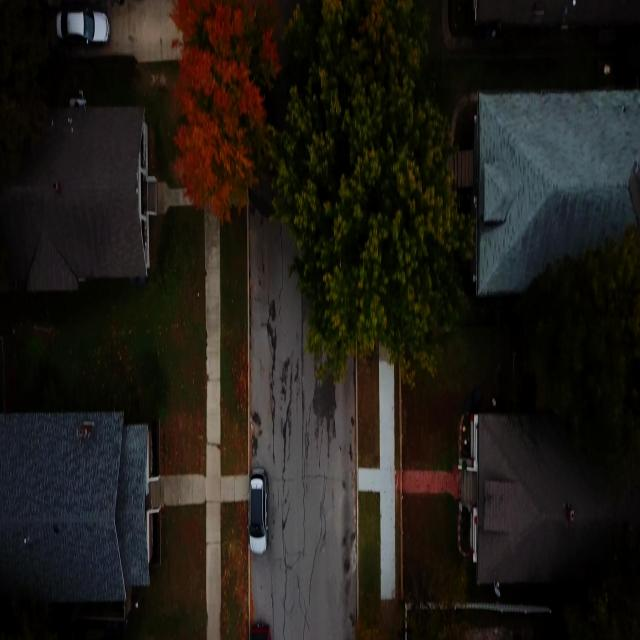Car: (54, 6, 109, 47), (247, 467, 270, 555)
